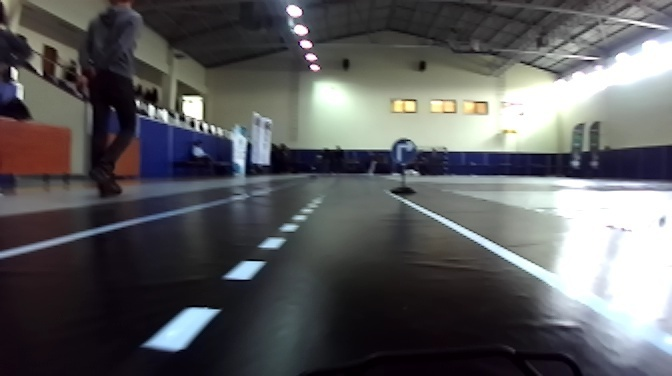saga_donus: (390, 138, 417, 165)
